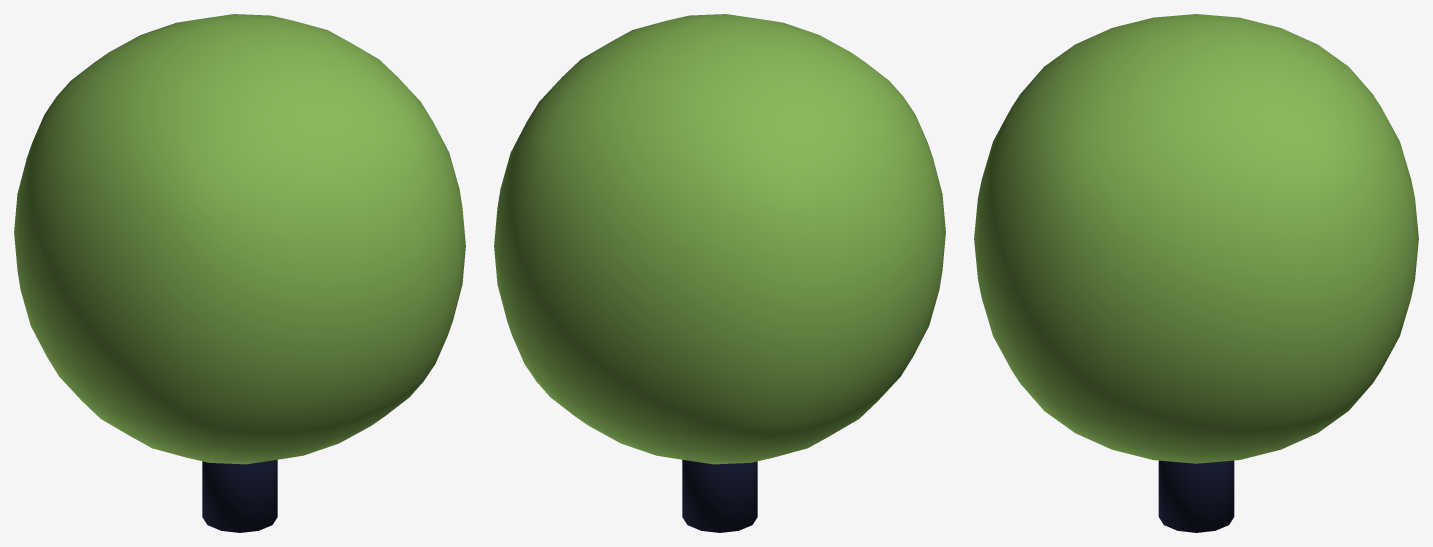
File: arbre-rond-ete.gltf
3 views of the same model, side by side, from view 1: azimuth 30°, elevation 25°; view 2: azimuth 150°, elevation 25°; view 3: azimuth 270°, elevation 25° (orthographic).
Parts seen in each view (by area): view 1: Cube.001, Cylinder; view 2: Cube.001, Cylinder; view 3: Cube.001, Cylinder.
Boxes of the visible parts, box(x1,y1,x2,y2) form: Cube.001: box(14, 14, 465, 464); Cylinder: box(202, 459, 277, 532); Cube.001: box(494, 14, 945, 464); Cylinder: box(682, 459, 757, 532); Cube.001: box(974, 14, 1418, 463); Cylinder: box(1158, 460, 1234, 532).
Bounding box in the file's own units: 1.11 × 1.32 × 1.11.
